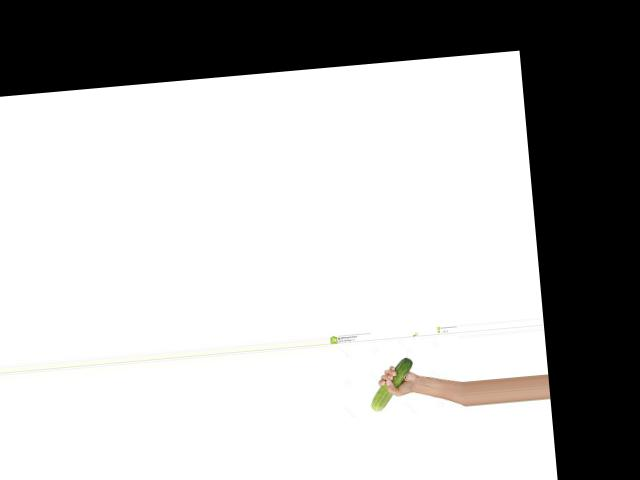cucumber: (368, 356, 418, 411)
